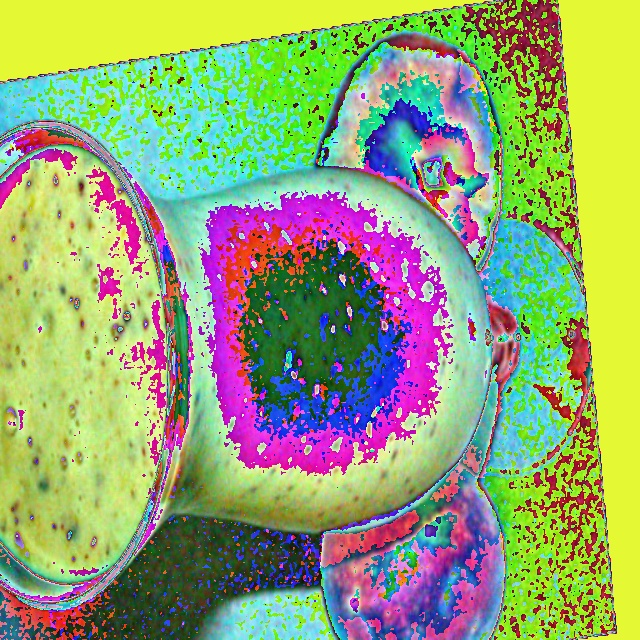background: (0, 30, 508, 639)
